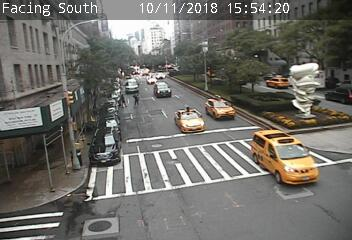car: (252, 130, 319, 186), (174, 109, 205, 133), (205, 98, 235, 119), (153, 82, 171, 98), (266, 77, 289, 89)
